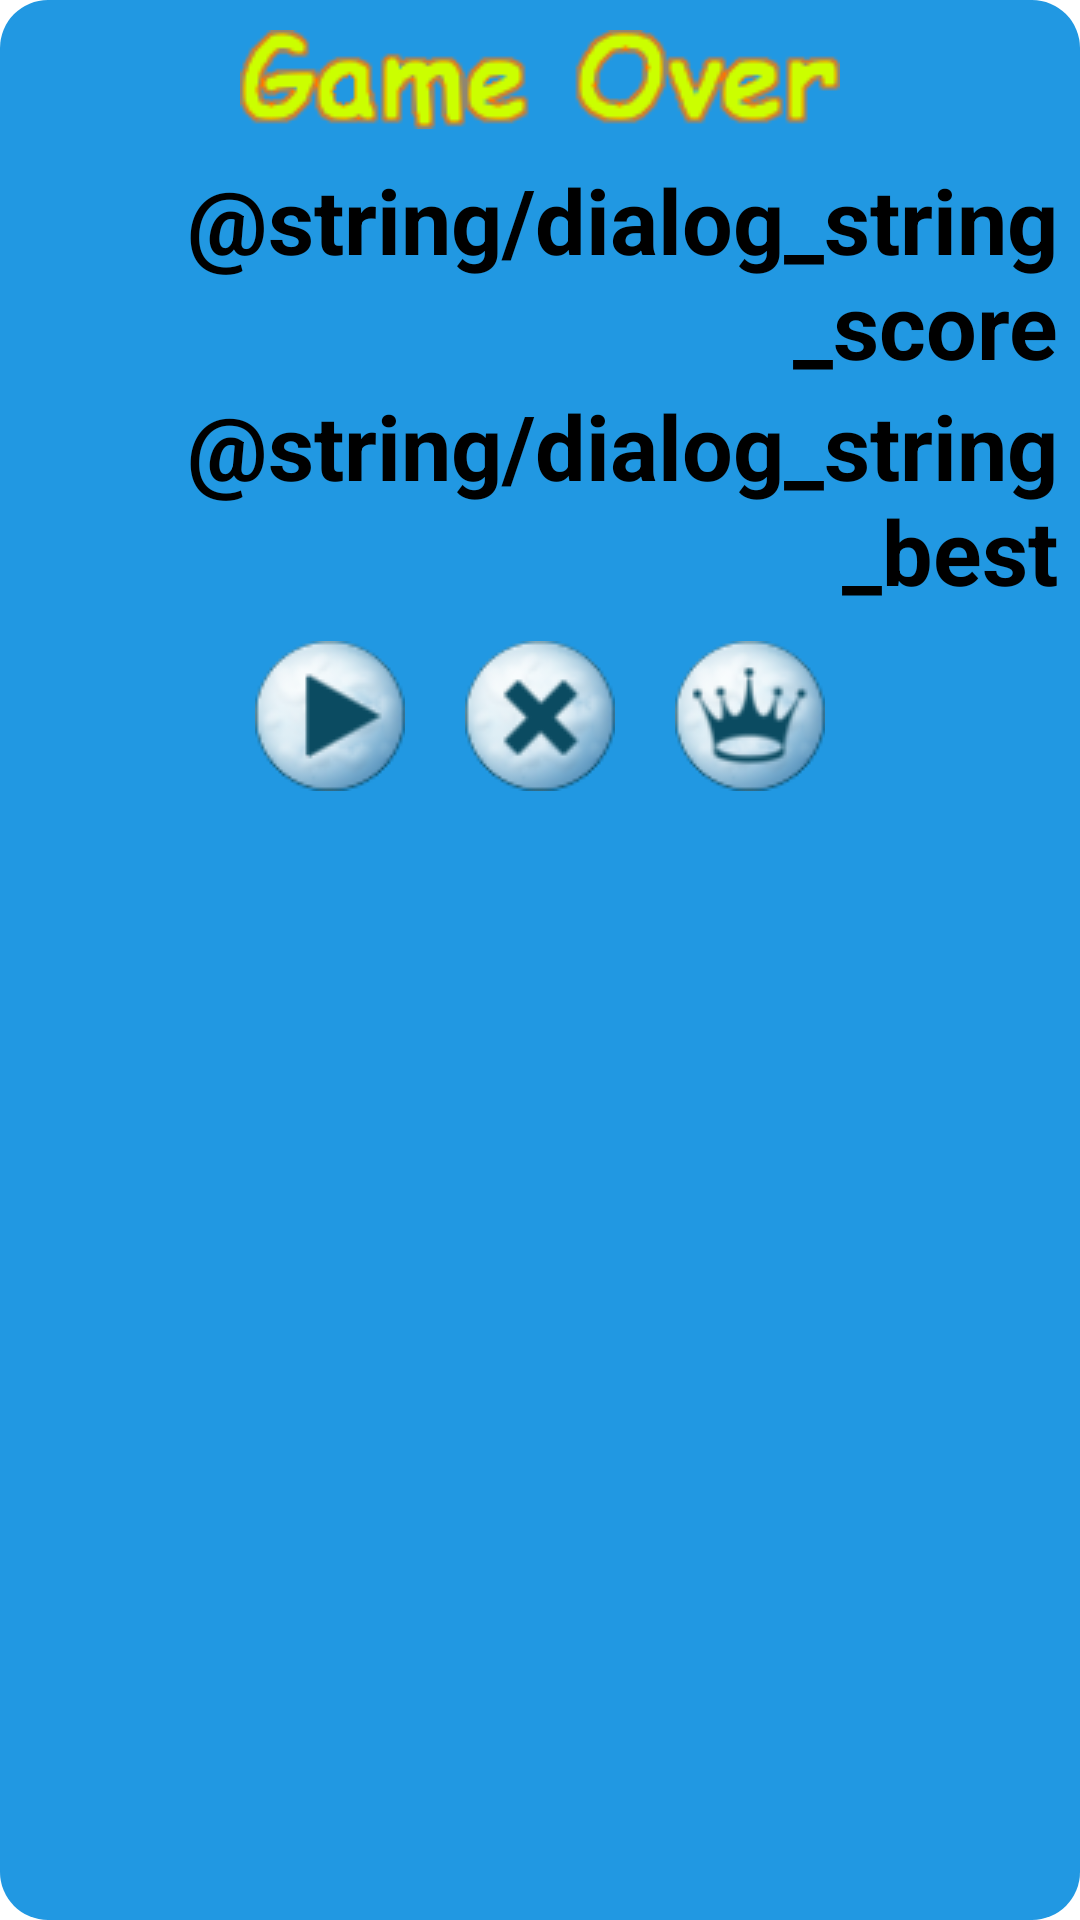

Where to tap for icons on this 1080*1920 app screen, as (x=x, y=y):
exit: (x=540, y=716)
play: (x=330, y=716)
rank: (x=750, y=716)
